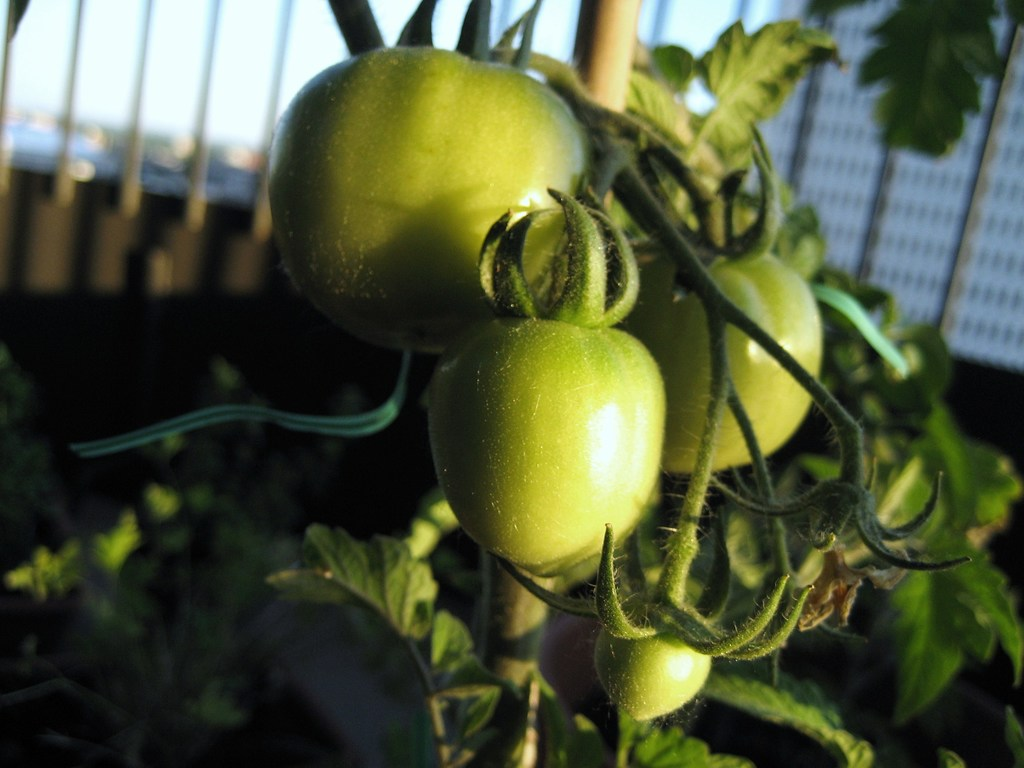Tomato: (270, 0, 599, 357), (618, 116, 816, 466), (427, 314, 658, 579), (495, 527, 803, 724)
